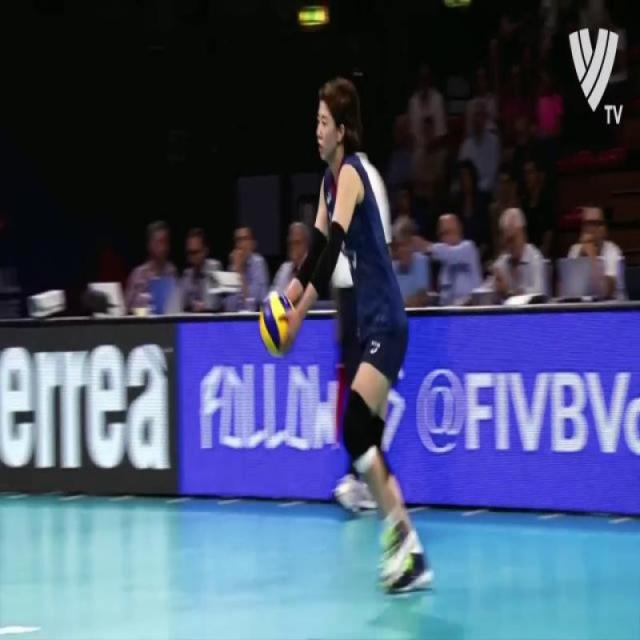volleyball: (258, 284, 296, 358)
